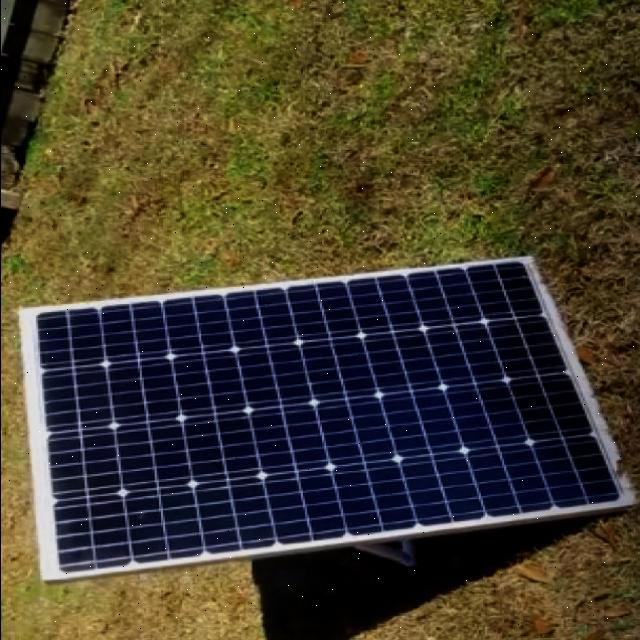Normal Solar Panel: (22, 258, 636, 582)
